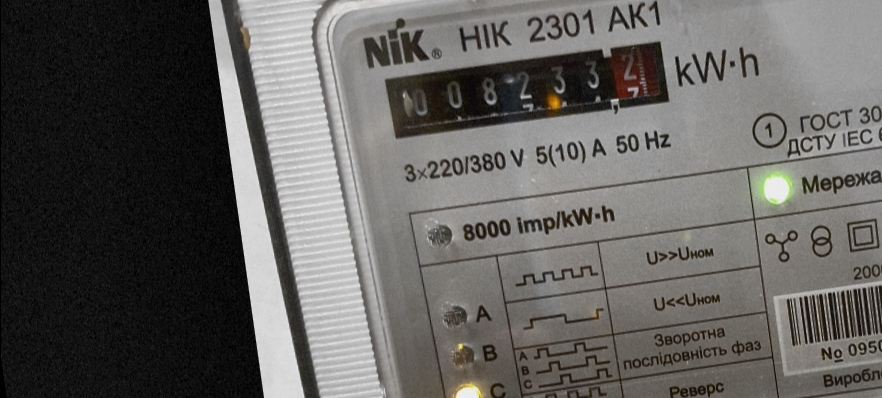0: (409, 85, 433, 119), (444, 79, 467, 112)
2: (513, 68, 537, 103), (619, 50, 641, 84)
3: (549, 63, 571, 97), (584, 57, 605, 91)
8: (480, 74, 501, 108)
screen: (374, 28, 684, 151)
